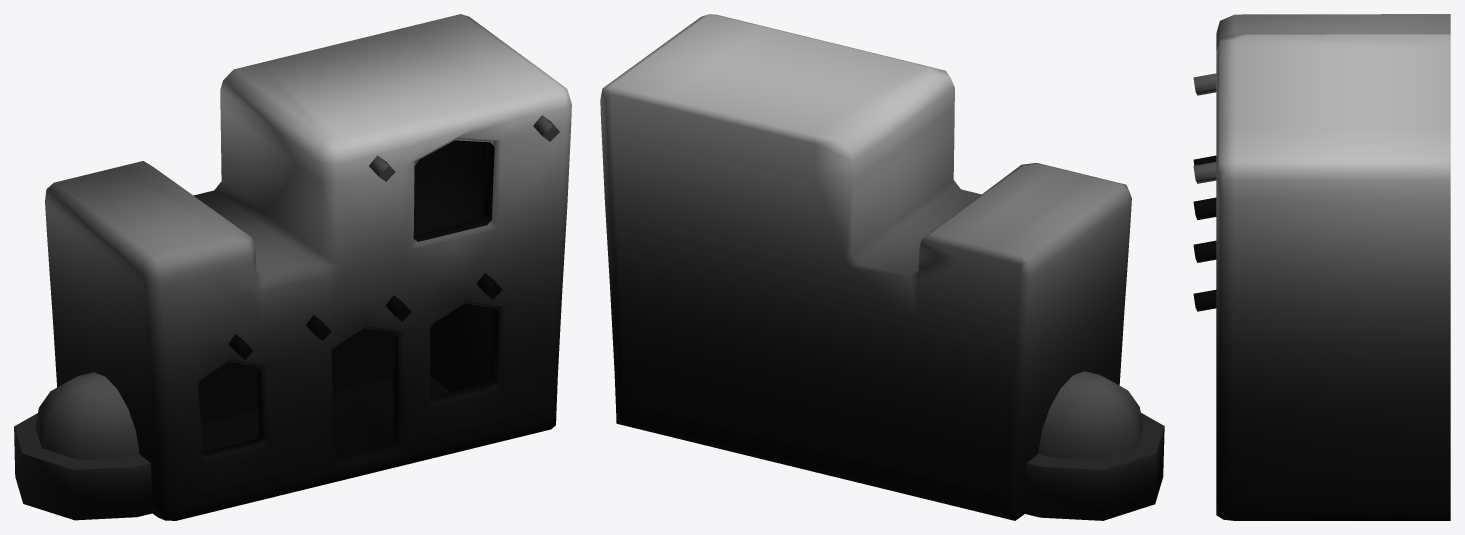
File: Building10.glb
3 renders of one model, left to right at view 1: azimuth 30°, elevation 25°; view 2: azimuth 150°, elevation 25°; view 3: azimuth 270°, elevation 25°, orthographic. The views are drawn at different scales.
Visible parts, largest first — view 1: Building10; view 2: Building10; view 3: Building10.
Part boxes in pixels (left/top/right/bottom): Building10: left=14, top=14, right=571, bottom=520; Building10: left=600, top=14, right=1164, bottom=520; Building10: left=1193, top=14, right=1450, bottom=520.
Size of what is drawn, in the model's own units: 14.61 by 9.34 by 5.91.
Materials: 1 (1 with a texture image).
